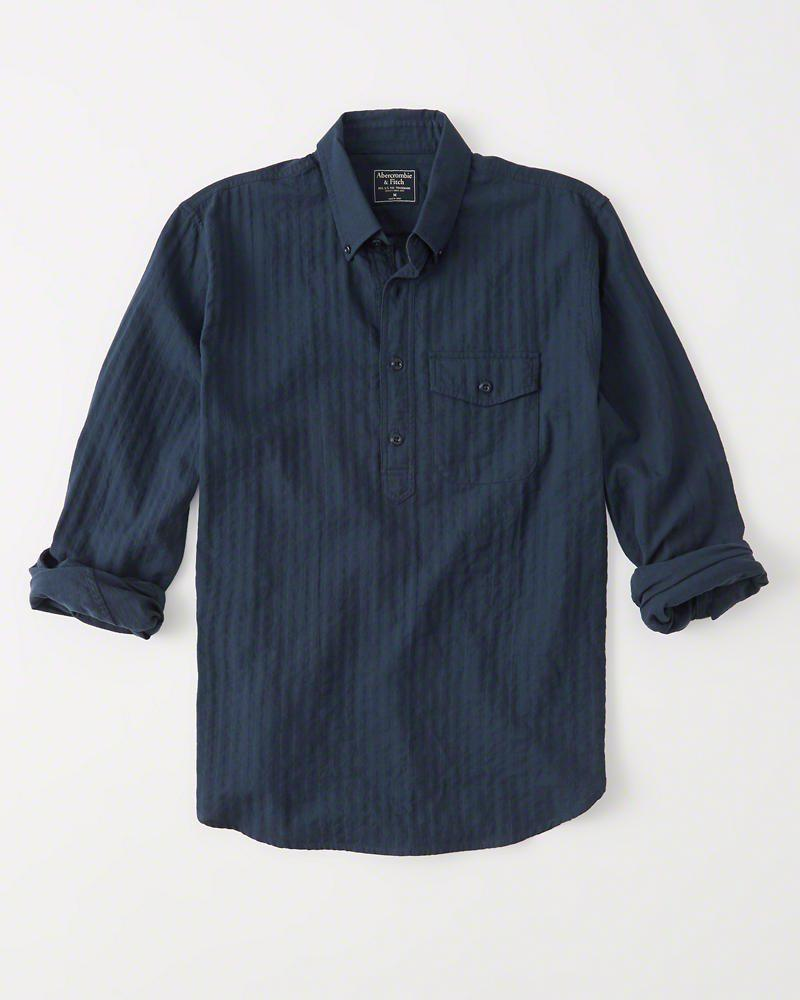teeshirt: (32, 104, 762, 854)
